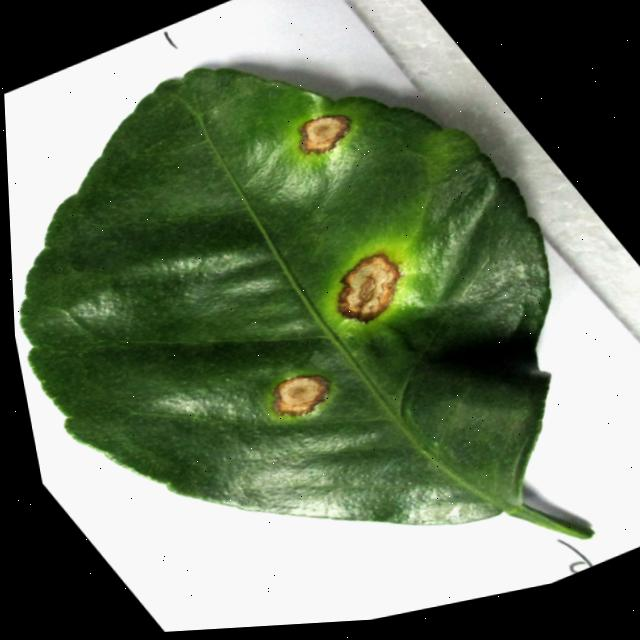antracnose: (21, 68, 592, 539), (337, 254, 399, 322), (272, 376, 328, 416), (299, 115, 350, 154)
